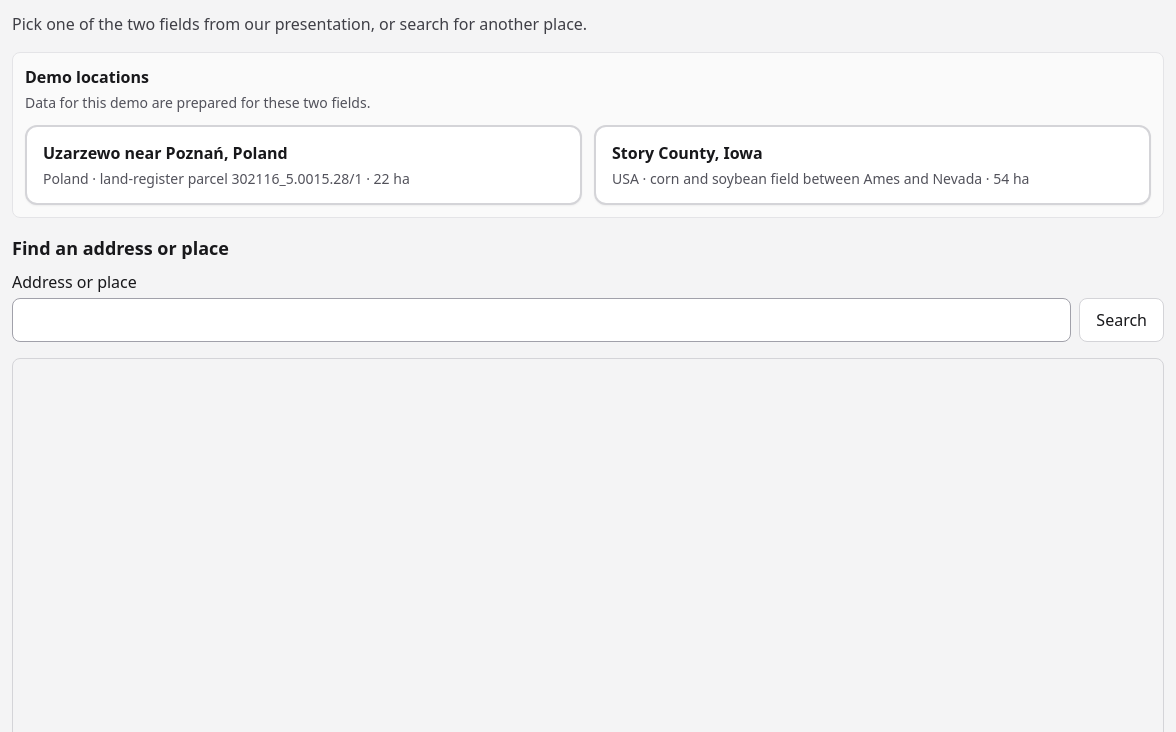
Test: MapStep › greys out and turns off the address and parcel search while a demo field is selected
Expected: the search field labelled "Address or place" is enabled, x1=12 y1=298 x2=1071 y2=342
Click the button "Story County, Iowa" at [687, 153], box x1=594 y1=125 x2=1151 y2=205
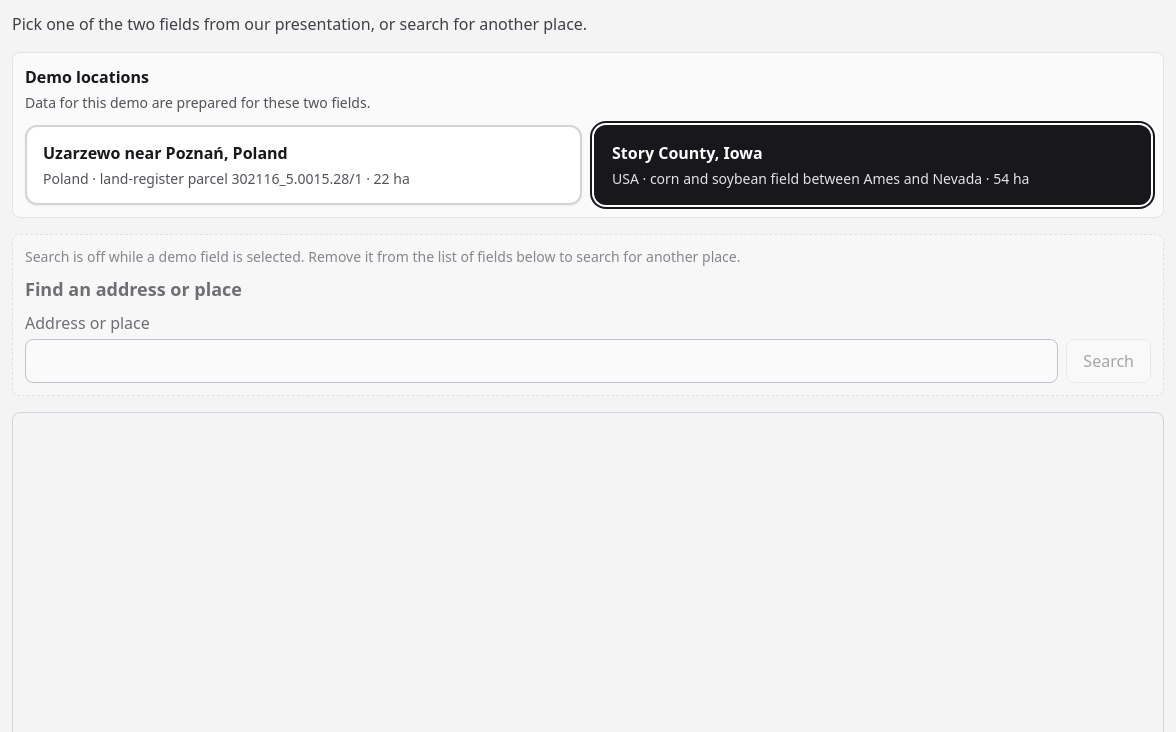
Expected: the search field labelled "Address or place" is disabled, x1=25 y1=339 x2=1058 y2=383
Expected: the text "Search is off while a demo field is selected. Remove it from the list of fields below to search for another place." is shown, x1=25 y1=247 x2=740 y2=266
